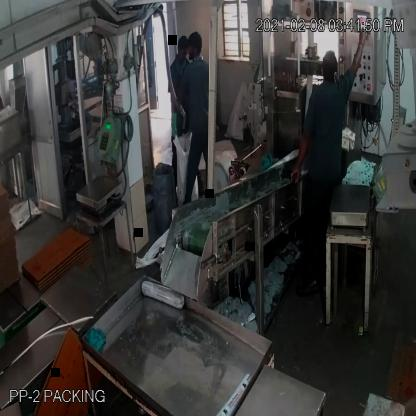no_glove: (289, 127, 308, 188), (350, 30, 371, 82)
